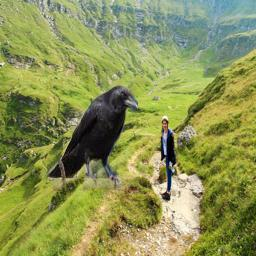Crow: (44, 83, 138, 191)
